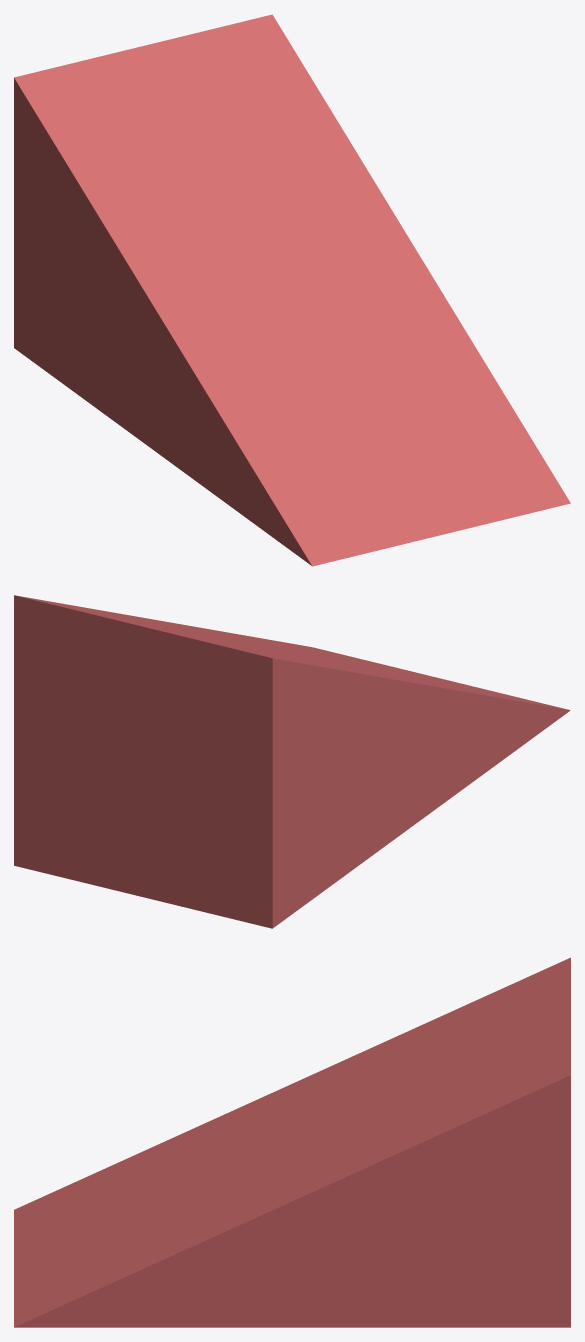
Rendered from floor_001_arch_access_stairs_collision.glb.
The picture shows the model from 3 angles, top to bottom: view 1: azimuth 30°, elevation 25°; view 2: azimuth 150°, elevation 25°; view 3: azimuth 270°, elevation 25°; orthographic projection. The views are drawn at different scales.
Visible parts, largest first — view 1: floor_001_arch_access_stairs_collision_ramp; view 2: floor_001_arch_access_stairs_collision_ramp; view 3: floor_001_arch_access_stairs_collision_ramp.
Boxes of the visible parts, box(x1,y1,x2,y2) form: floor_001_arch_access_stairs_collision_ramp: box(14, 14, 570, 566); floor_001_arch_access_stairs_collision_ramp: box(14, 595, 570, 928); floor_001_arch_access_stairs_collision_ramp: box(14, 957, 570, 1327).
Bounding box in the file's own units: 4 × 4 × 8.
